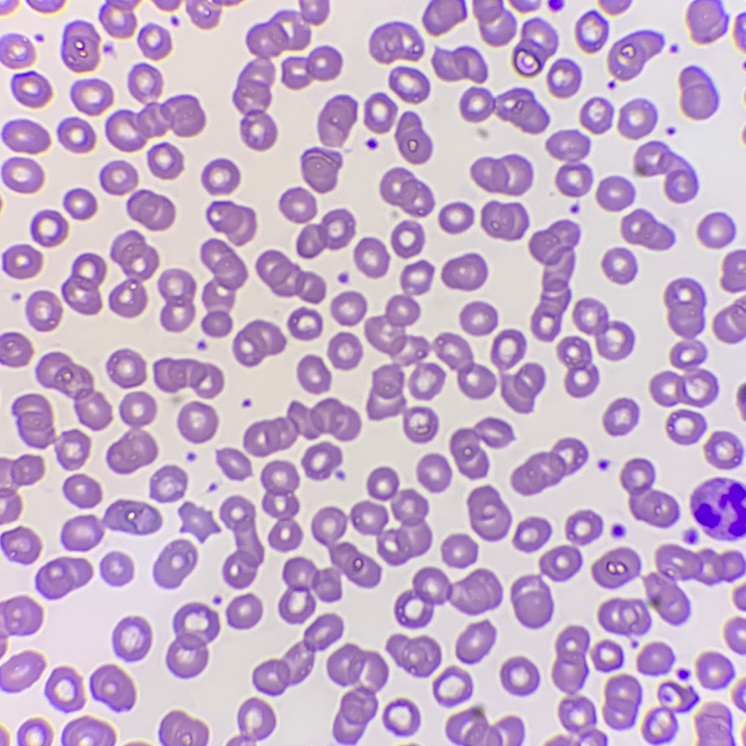RBC: (233, 0, 329, 150), (364, 261, 443, 441), (598, 544, 743, 633), (278, 507, 380, 622), (105, 65, 205, 151), (649, 279, 715, 406), (351, 467, 430, 563), (253, 613, 343, 693), (546, 625, 604, 745), (243, 398, 360, 456), (394, 567, 500, 626), (326, 643, 387, 742), (529, 220, 578, 341), (13, 394, 90, 469), (37, 352, 111, 429), (100, 161, 174, 230), (62, 499, 161, 550), (201, 239, 247, 337), (539, 510, 601, 579), (109, 231, 158, 317), (511, 438, 586, 494), (433, 332, 495, 399), (107, 391, 157, 473), (220, 495, 264, 587), (459, 88, 548, 133), (167, 602, 219, 677), (620, 458, 677, 526), (450, 417, 512, 478), (633, 142, 695, 202), (573, 298, 632, 360), (261, 460, 301, 550), (256, 251, 326, 302), (446, 705, 522, 745), (642, 681, 693, 740), (0, 455, 44, 523), (546, 130, 591, 196), (296, 209, 355, 258), (154, 358, 223, 398), (379, 168, 433, 217), (63, 253, 106, 314), (607, 32, 660, 80), (282, 47, 341, 89), (470, 155, 531, 195), (511, 22, 555, 77), (0, 596, 42, 653), (233, 320, 285, 366), (557, 337, 596, 397), (467, 486, 510, 540), (158, 269, 195, 331), (499, 363, 544, 413), (386, 634, 440, 675), (228, 698, 275, 745), (37, 557, 92, 597), (510, 575, 552, 627), (207, 201, 256, 244), (621, 210, 671, 250), (369, 25, 423, 62), (317, 95, 356, 146), (472, 0, 515, 46), (155, 539, 197, 586), (91, 664, 135, 708), (432, 47, 486, 82), (591, 547, 638, 587), (603, 674, 639, 725), (481, 202, 528, 240), (301, 148, 341, 192), (679, 69, 714, 119), (395, 113, 430, 163), (160, 710, 208, 745), (1, 651, 44, 690), (441, 253, 486, 290), (63, 25, 99, 71), (177, 402, 217, 442), (455, 621, 494, 662), (690, 478, 732, 516), (114, 616, 151, 659), (686, 0, 722, 44), (2, 120, 49, 153), (1, 157, 43, 193), (302, 442, 341, 480), (47, 667, 83, 708), (71, 80, 113, 115), (107, 349, 145, 387), (432, 666, 471, 703), (713, 297, 745, 342), (423, 0, 465, 34), (500, 656, 538, 693), (26, 291, 61, 331), (490, 329, 525, 369), (65, 717, 115, 745), (695, 703, 728, 745), (187, 0, 236, 28), (1, 527, 40, 562), (354, 237, 388, 277), (618, 102, 654, 139), (704, 431, 740, 468), (150, 465, 187, 501), (202, 159, 240, 194), (3, 244, 42, 278), (389, 69, 429, 102), (31, 210, 67, 246), (383, 698, 419, 734), (101, 0, 136, 37), (279, 188, 316, 223), (13, 73, 51, 107), (602, 398, 637, 434), (58, 118, 95, 152), (297, 355, 331, 392), (666, 410, 703, 444), (513, 516, 550, 550), (546, 60, 579, 98), (417, 453, 450, 491), (63, 474, 101, 507), (148, 144, 183, 179), (181, 502, 216, 537), (596, 177, 632, 211), (460, 301, 496, 335), (328, 332, 361, 369), (364, 94, 396, 132), (697, 213, 731, 248), (331, 291, 366, 325), (227, 594, 262, 628), (391, 222, 424, 257), (602, 248, 635, 283), (441, 533, 476, 566), (696, 652, 729, 686), (287, 308, 322, 340), (575, 16, 606, 52), (0, 332, 32, 366), (637, 641, 671, 673), (580, 99, 611, 133), (217, 448, 251, 479), (438, 203, 473, 233), (139, 26, 171, 58), (0, 37, 34, 67), (102, 552, 133, 584), (721, 250, 745, 291), (64, 189, 96, 219), (590, 640, 622, 670), (724, 618, 745, 650), (603, 0, 629, 14), (733, 584, 745, 609), (734, 18, 745, 44), (155, 0, 179, 10), (737, 384, 745, 414), (0, 732, 8, 744), (42, 4, 51, 12), (29, 0, 39, 7)
